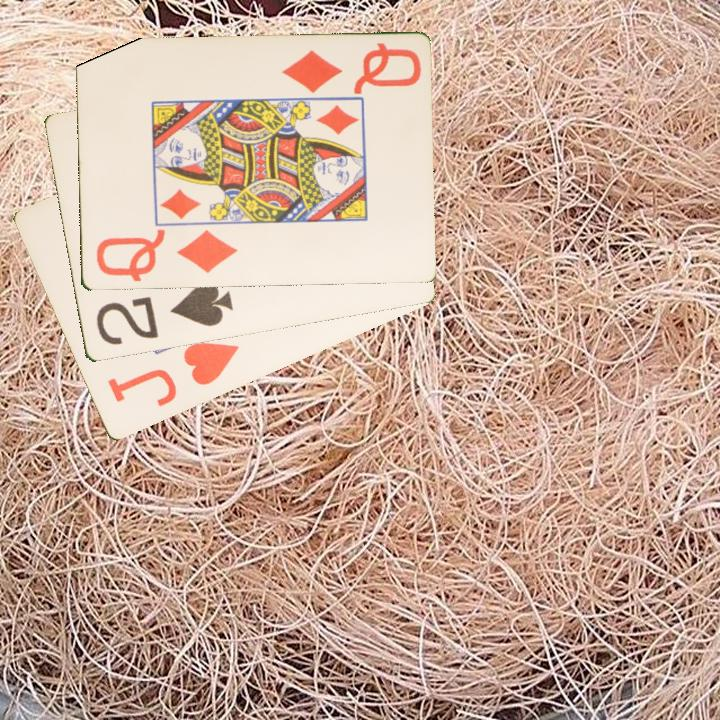2s: (92, 279, 235, 349)
Jh: (103, 339, 242, 410)
Qd: (92, 227, 240, 285), (277, 40, 426, 96)
